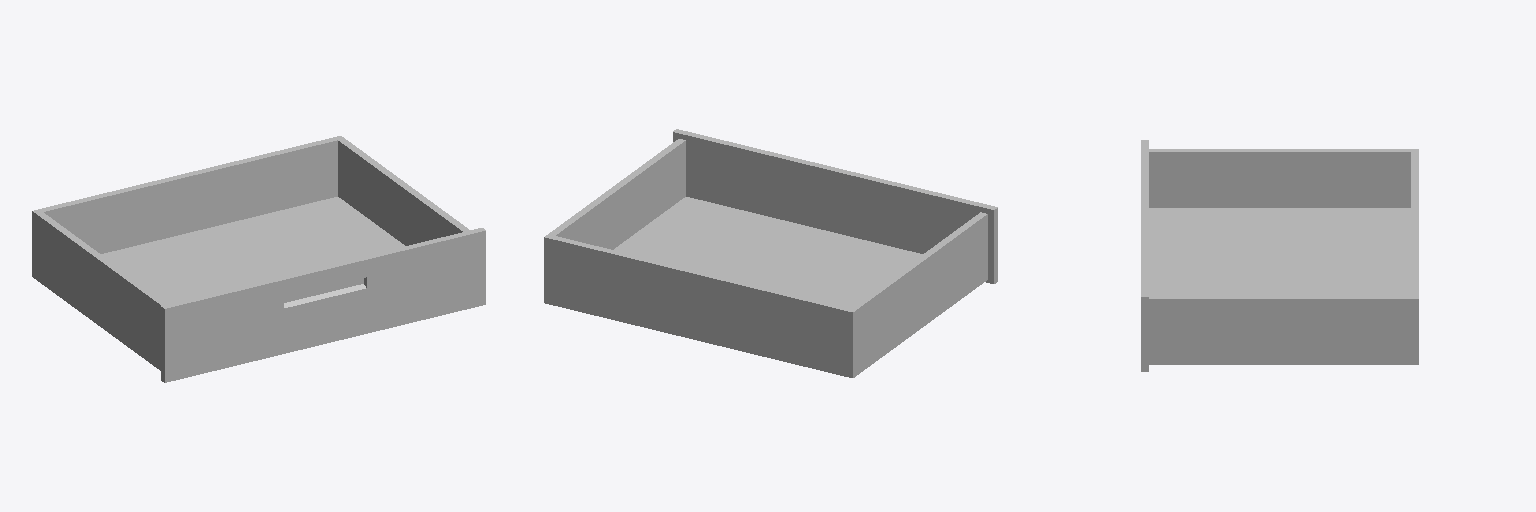
File: Gimmick_Cabinet02_drawer_Snake.obj
3 views of the same model, side by side, from view 1: azimuth 30°, elevation 25°; view 2: azimuth 150°, elevation 25°; view 3: azimuth 270°, elevation 25° (orthographic).
Parts seen in each view (by area): view 1: Gimmick_Cabinet02_drawer_Snake; view 2: Gimmick_Cabinet02_drawer_Snake; view 3: Gimmick_Cabinet02_drawer_Snake.
Boxes of the visible parts, x1=… form: Gimmick_Cabinet02_drawer_Snake: x1=32, y1=136, x2=485, y2=382; Gimmick_Cabinet02_drawer_Snake: x1=544, y1=129, x2=997, y2=377; Gimmick_Cabinet02_drawer_Snake: x1=1141, y1=140, x2=1418, y2=371.
Size of the model in its own units: 45.26 by 9.96 by 33.86.